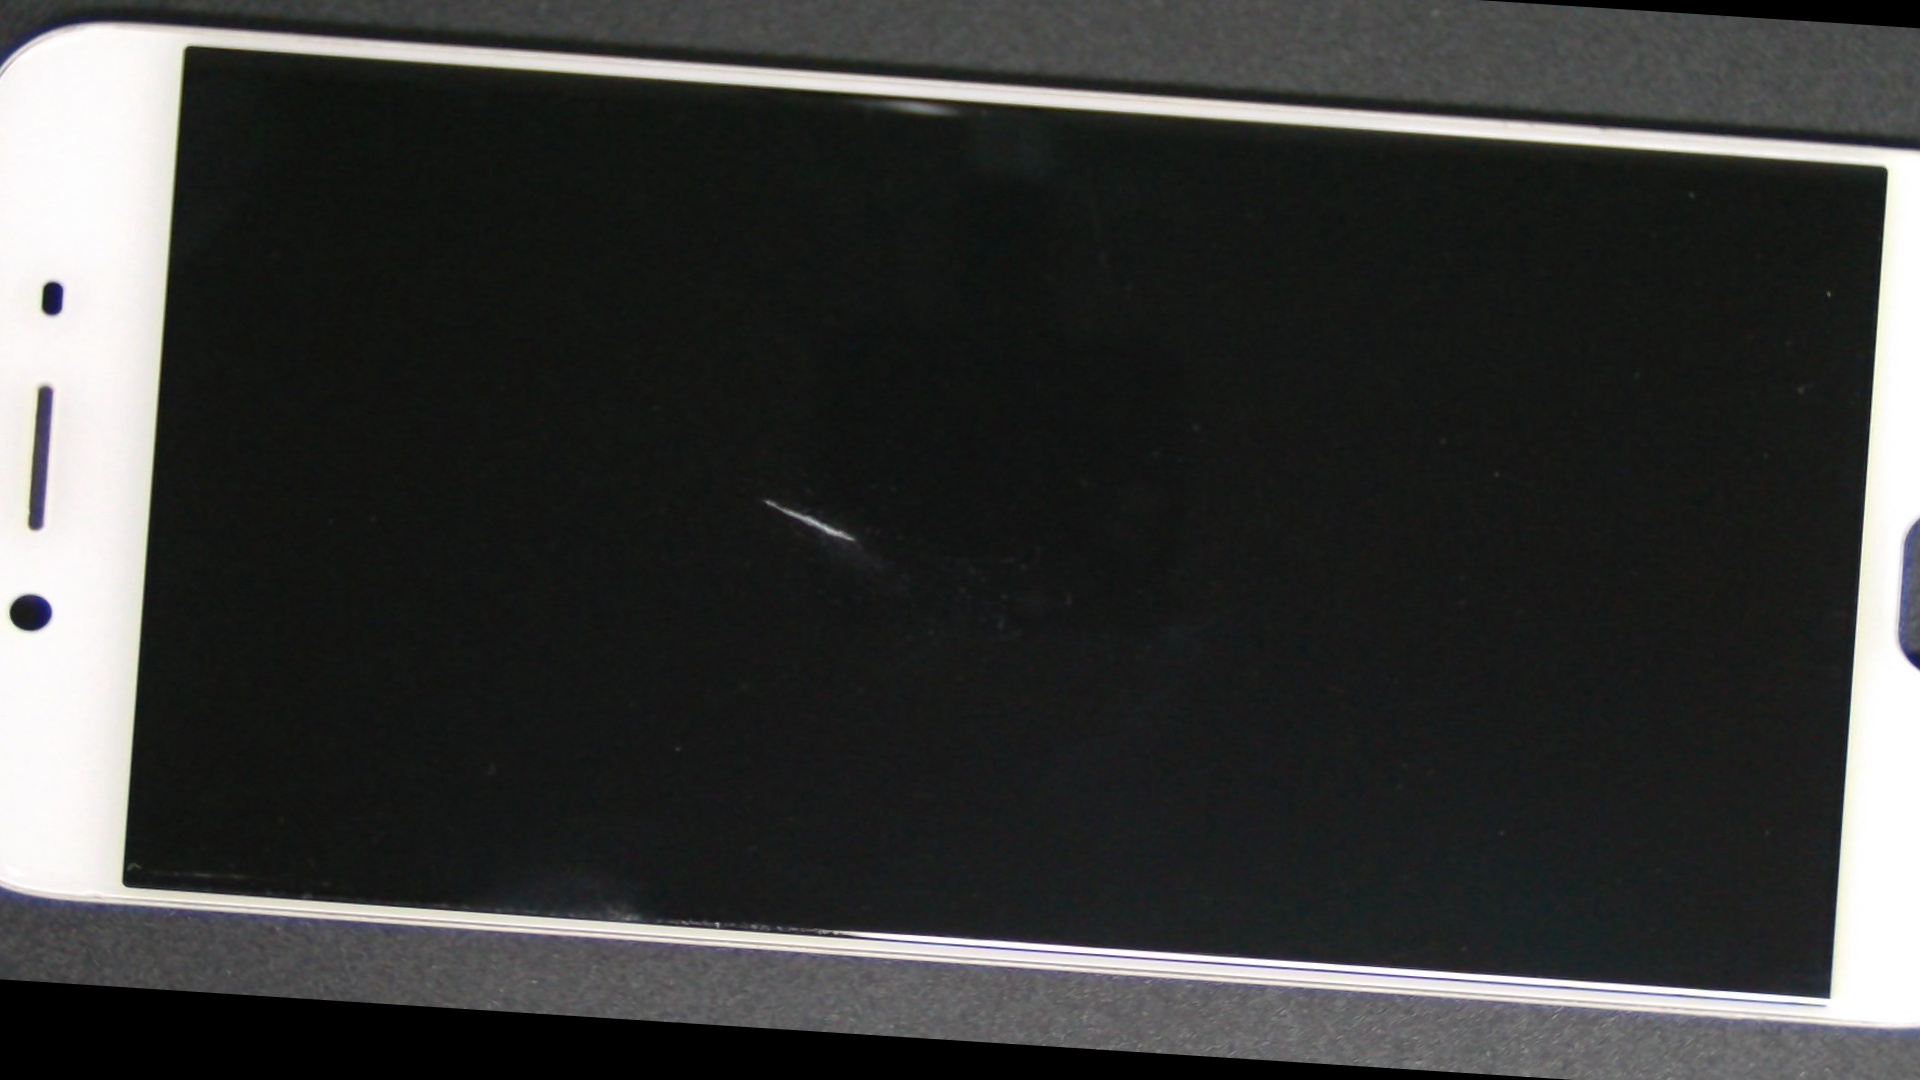oil: (328, 200, 1217, 798)
